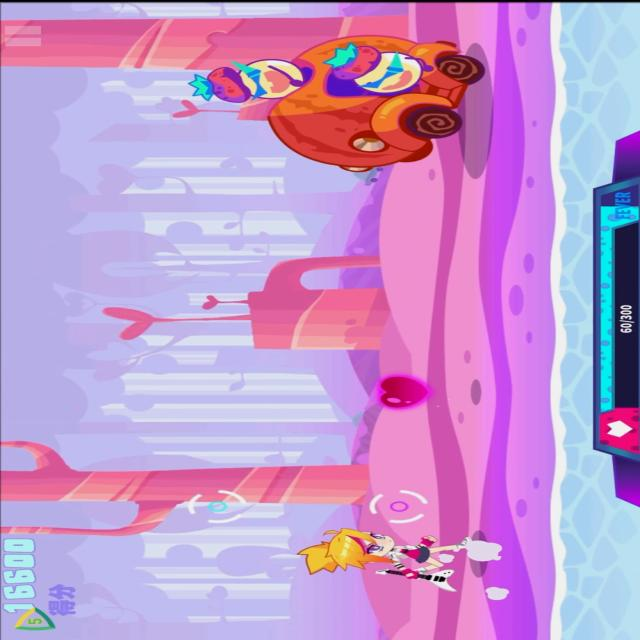Boss-Pumpkin: (187, 31, 495, 176)
incentive-heart: (364, 366, 450, 412)
